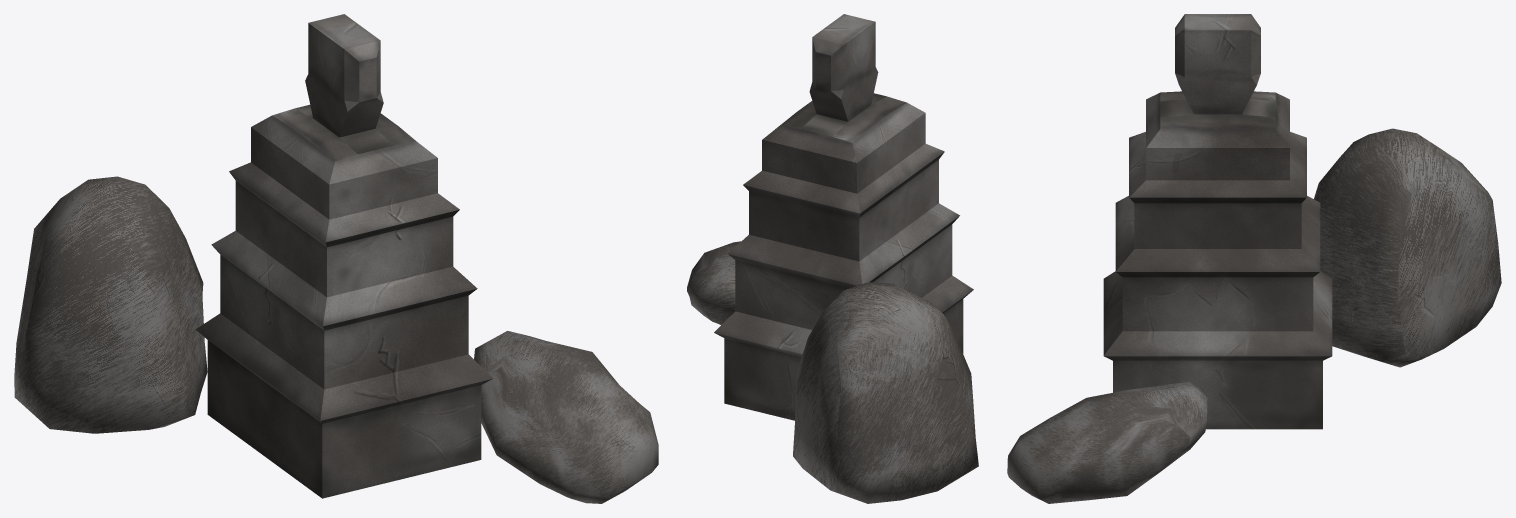
Rendered from Ruins_001.fbx.
3 renders of one model, left to right at view 1: azimuth 30°, elevation 25°; view 2: azimuth 150°, elevation 25°; view 3: azimuth 270°, elevation 25°, orthographic. The views are drawn at different scales.
Parts seen in each view (by area): view 1: Ruins_001; view 2: Ruins_001; view 3: Ruins_001.
Part boxes in pixels (<box>): Ruins_001: <box>14,14,658,503</box>; Ruins_001: <box>687,14,978,503</box>; Ruins_001: <box>1007,14,1501,503</box>.
Bounding box in the file's own units: 23 × 21.05 × 23.51.
Materials: 3 (3 with a texture image).
